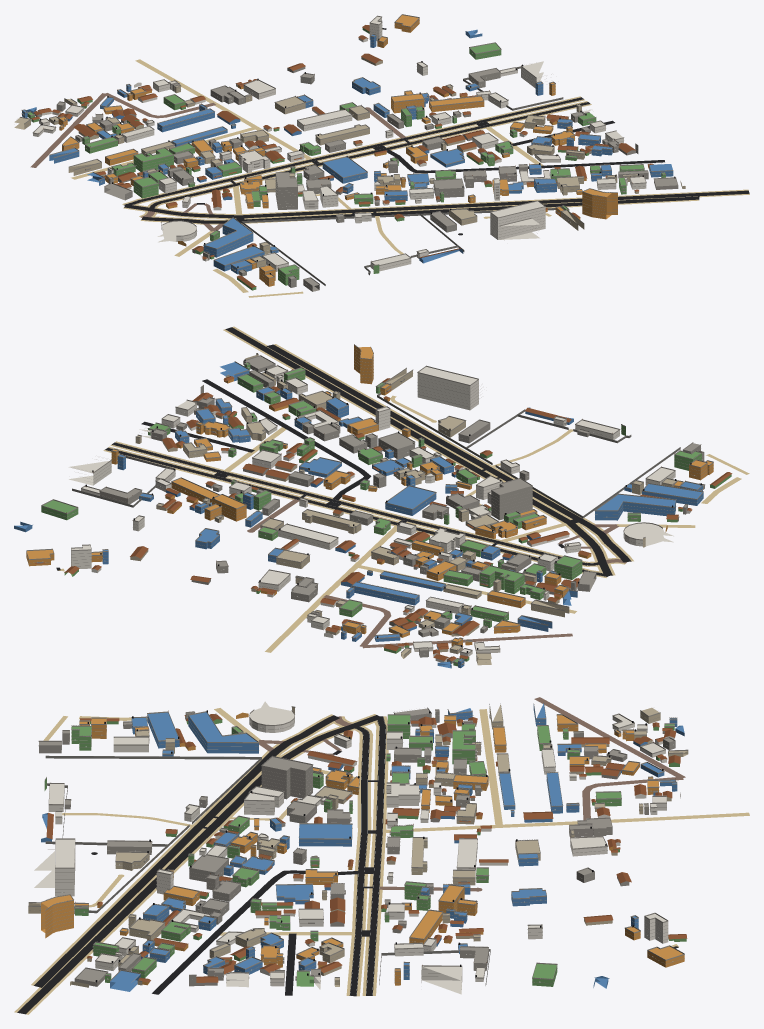
The model's file is zone_t4_1.glb.
3 views of the same model, one above another, from view 1: azimuth 30°, elevation 25°; view 2: azimuth 150°, elevation 25°; view 3: azimuth 270°, elevation 25° (orthographic). The views are drawn at different scales.
Visible parts, largest first — view 1: parapet_t4_1, bld_peinture_blanc_t4_1-col, bld_peinture_bleu_t4_1-col, bld_beton_t4_1-col, bld_peinture_ocre_t4_1-col, bld_peinture_vert_t4_1-col, bld_peinture_ecaillee_t4_1-col, accotement_t4_1, toit_tole_t4_1, route_primary_bitume_t4_1, bandeau_t4_1, route_tertiary_bitume_t4_1 (+4 smaller); view 2: parapet_t4_1, bld_peinture_blanc_t4_1-col, bld_peinture_bleu_t4_1-col, bld_beton_t4_1-col, bld_peinture_ocre_t4_1-col, bld_peinture_vert_t4_1-col, bld_peinture_ecaillee_t4_1-col, toit_tole_t4_1, accotement_t4_1, route_primary_bitume_t4_1, bandeau_t4_1, route_tertiary_bitume_t4_1 (+5 smaller); view 3: parapet_t4_1, bld_peinture_blanc_t4_1-col, bld_peinture_bleu_t4_1-col, bld_beton_t4_1-col, bld_peinture_ocre_t4_1-col, bld_peinture_vert_t4_1-col, toit_tole_t4_1, accotement_t4_1, bld_peinture_ecaillee_t4_1-col, route_primary_bitume_t4_1, route_tertiary_bitume_t4_1, bandeau_t4_1 (+5 smaller).
Boxes of the visible parts, bbox=[...] form: parapet_t4_1: bbox=[19, 14, 678, 286]; bld_peinture_blanc_t4_1-col: bbox=[33, 16, 646, 271]; bld_peinture_bleu_t4_1-col: bbox=[22, 29, 673, 274]; bld_beton_t4_1-col: bbox=[34, 66, 678, 291]; bld_peinture_ocre_t4_1-col: bbox=[58, 15, 649, 286]; bld_peinture_vert_t4_1-col: bbox=[27, 28, 665, 290]; bld_peinture_ecaillee_t4_1-col: bbox=[14, 57, 685, 267]; accotement_t4_1: bbox=[122, 96, 749, 224]; toit_tole_t4_1: bbox=[31, 25, 653, 287]; route_primary_bitume_t4_1: bbox=[124, 190, 749, 223]; bandeau_t4_1: bbox=[22, 20, 672, 289]; route_tertiary_bitume_t4_1: bbox=[124, 97, 590, 208]; parapet_t4_1: bbox=[26, 344, 713, 663]; bld_peinture_blanc_t4_1-col: bbox=[68, 366, 690, 662]; bld_peinture_bleu_t4_1-col: bbox=[14, 362, 703, 668]; bld_beton_t4_1-col: bbox=[99, 356, 704, 663]; bld_peinture_ocre_t4_1-col: bbox=[26, 345, 713, 646]; bld_peinture_vert_t4_1-col: bbox=[41, 363, 731, 666]; bld_peinture_ecaillee_t4_1-col: bbox=[130, 353, 675, 665]; toit_tole_t4_1: bbox=[64, 369, 732, 660]; accotement_t4_1: bbox=[103, 326, 633, 577]; route_primary_bitume_t4_1: bbox=[225, 327, 631, 576]; bandeau_t4_1: bbox=[26, 348, 713, 665]; route_tertiary_bitume_t4_1: bbox=[105, 442, 608, 576]; parapet_t4_1: bbox=[28, 702, 688, 983]; bld_peinture_blanc_t4_1-col: bbox=[34, 701, 680, 994]; bld_peinture_bleu_t4_1-col: bbox=[41, 703, 684, 991]; bld_beton_t4_1-col: bbox=[39, 708, 675, 986]; bld_peinture_ocre_t4_1-col: bbox=[41, 713, 684, 985]; bld_peinture_vert_t4_1-col: bbox=[44, 715, 686, 986]; toit_tole_t4_1: bbox=[46, 714, 687, 982]; accotement_t4_1: bbox=[14, 714, 388, 1014]; bld_peinture_ecaillee_t4_1-col: bbox=[28, 705, 688, 987]; route_primary_bitume_t4_1: bbox=[17, 715, 382, 1014]; route_tertiary_bitume_t4_1: bbox=[349, 716, 386, 996]; bandeau_t4_1: bbox=[28, 711, 684, 989].
Size of the model in its own units: 592 by 24.95 by 579.
